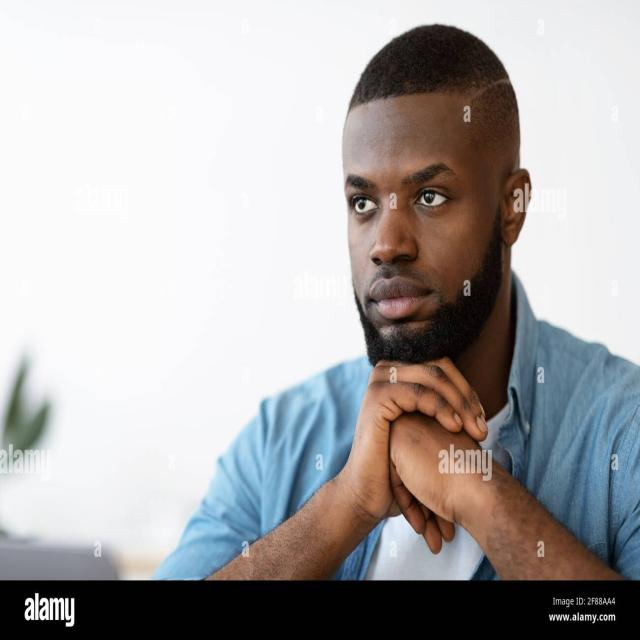sem_oculos: (318, 145, 532, 237)
